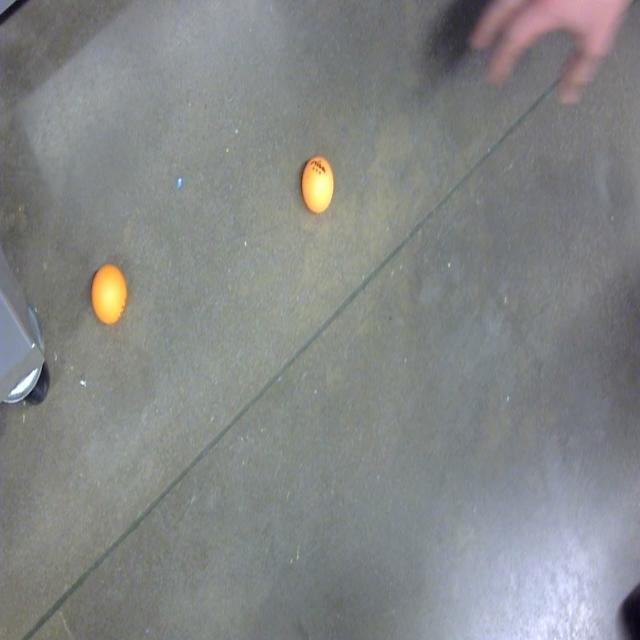ball: (90, 258, 130, 327), (301, 151, 335, 215)
